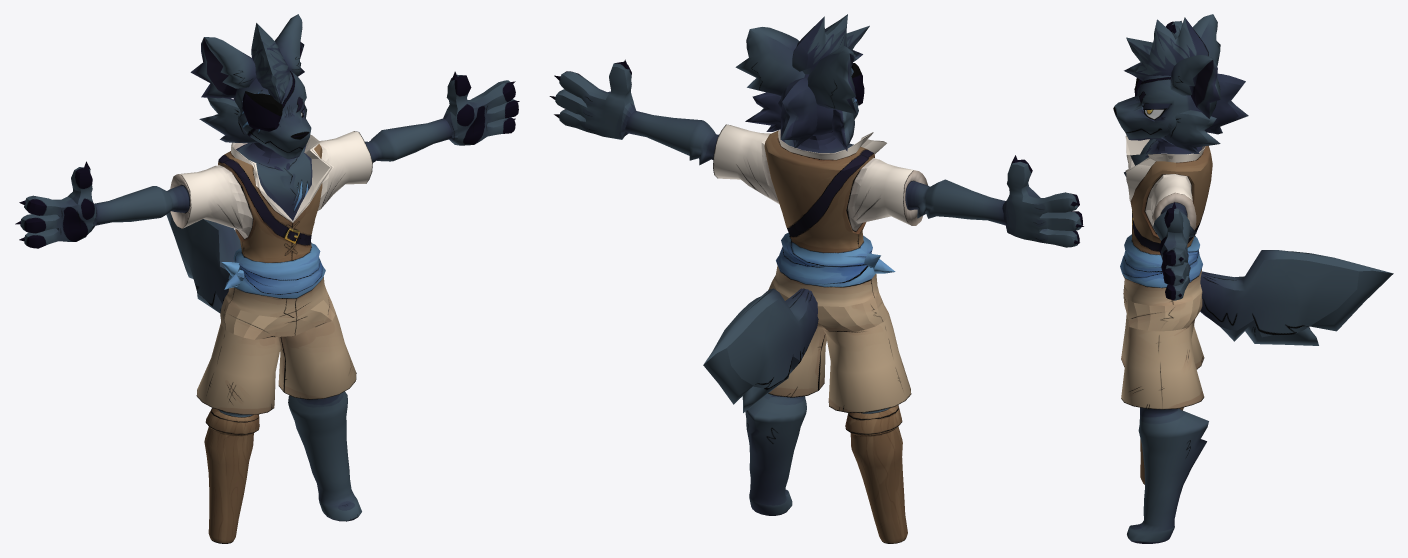
Rendered from Salty_Character_Rig_Textured.fbx.
3 renders of one model, left to right at view 1: azimuth 30°, elevation 25°; view 2: azimuth 150°, elevation 25°; view 3: azimuth 270°, elevation 25°, orthographic. The views are drawn at different scales.
Parts seen in each view (by area): view 1: Salty_Character; view 2: Salty_Character; view 3: Salty_Character.
Part boxes in pixels (x1,y1,x2,y2): Salty_Character: (15,14,519,543); Salty_Character: (549,14,1083,543); Salty_Character: (1113,14,1393,543).
Bounding box in the file's own units: 223 × 209 × 108.
Materials: 2 (2 with a texture image).
